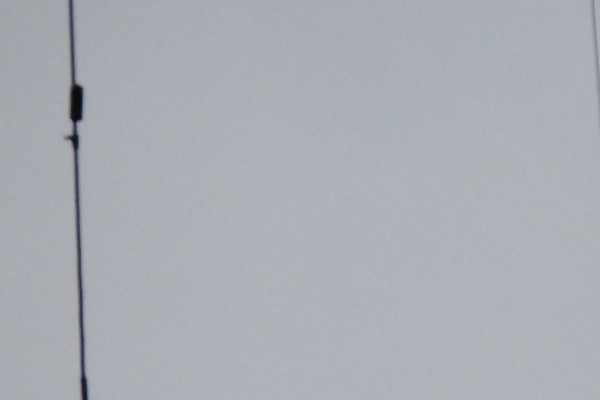damper_defect: (59, 79, 88, 160)
